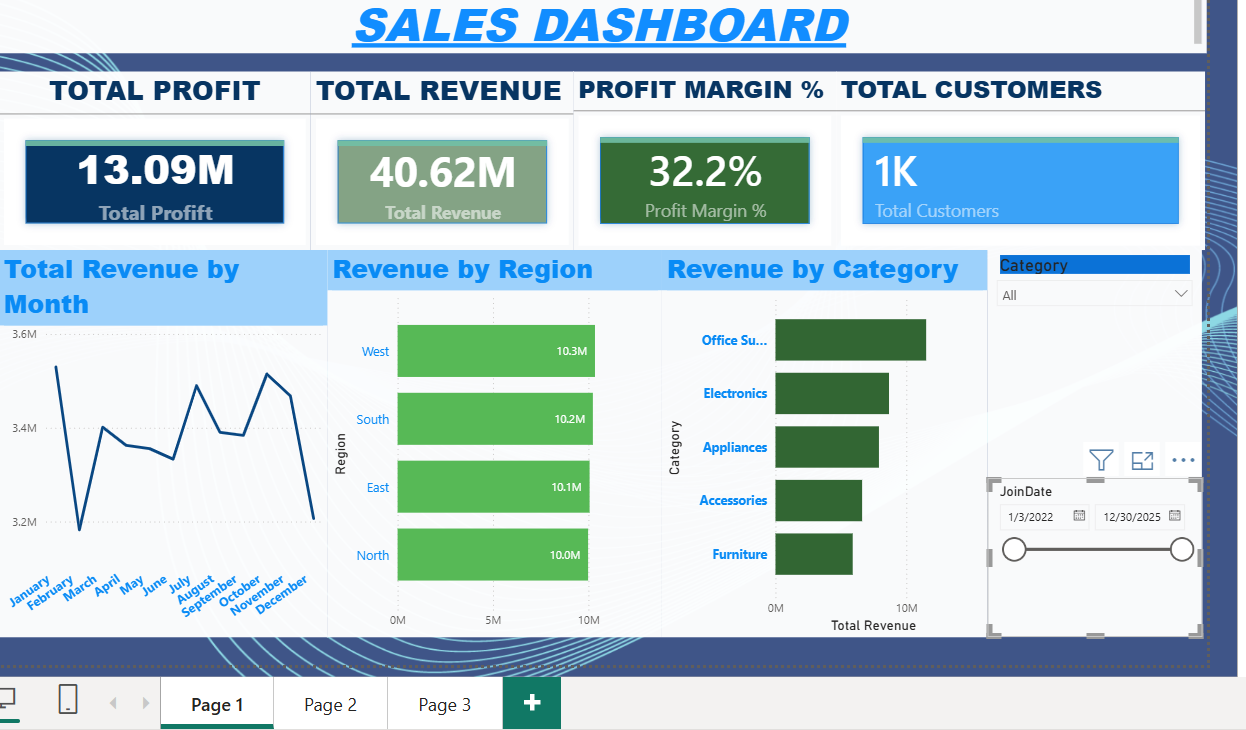

What the dashboard file says about the page in this screenshot:
{"tool":"powerbi","page":{"name":"EXECUTIVE OVERVIEW","canvas":[1280,720],"ordinal":0},"visuals":[{"type":"cardVisual","title":"TOTAL PROFIT","fields":{"Data":["Customer_Data.Total Profift"]},"box":[0,90.7,330.8,189.3],"z":0},{"type":"cardVisual","title":"TOTAL REVENUE","fields":{"Data":["Customer_Data.Total Revenue"]},"box":[330.8,90.7,278.4,189.3],"z":1000},{"type":"cardVisual","title":"PROFIT MARGIN %","fields":{"Data":["Sales_Data_20000_Rows.Profit Margin %"]},"box":[609.2,90.7,278.4,189.3],"z":2000},{"type":"cardVisual","title":"TOTAL CUSTOMERS","fields":{"Data":["Sales_Data_20000_Rows.Total Customers"]},"box":[887.6,90.7,391.3,189.3],"z":3000},{"type":"lineChart","title":"Total Revenue by Month","fields":{"Category":["Sales_Data_20000_Rows.OrderDate.Variation.Date Hierarchy.Month"],"Y":["Customer_Data.Total Revenue"]},"box":[0,279.9,348.3,410.4],"z":4000},{"type":"clusteredBarChart","title":"Revenue by Region ","fields":{"Category":["Sales_Data_20000_Rows.Region"],"Y":["Customer_Data.Total Revenue"]},"box":[348.4,279,354.8,409.7],"z":5000},{"type":"barChart","title":" Revenue by Category","fields":{"Category":["Product_Data.Category"],"Y":["Customer_Data.Total Revenue"]},"box":[703.1,279.9,345.2,410.4],"z":6000},{"type":"textbox","box":[0,0,1280.4,71.6],"z":7000},{"type":"slicer","fields":{"Values":["Product_Data.Category"]},"box":[1053.2,279,227.4,62.9],"z":8000},{"type":"slicer","fields":{"Values":["Customer_Data.JoinDate","Customer_Data.Age group"]},"box":[1052,522,228,168],"z":9000},{"type":"slicer","fields":{"Values":["Sales_Data_20000_Rows.Region"]},"box":[1048.4,359.7,227.4,62.9],"z":10000},{"type":"slicer","fields":{"Values":["Sales_Data_20000_Rows.Year"]},"box":[1052,452,228,62],"z":11000}]}

Visuals, with their boxes on the page's 1280x720 design canvas (x1, y1, x2, y2). These are canvas units, not pixel positions in the 1246x730 screenshot, which may show the page scaled, cropped or inside an application window:
"TOTAL PROFIT" cardVisual: (left=0, top=91, right=331, bottom=280)
"TOTAL REVENUE" cardVisual: (left=331, top=91, right=609, bottom=280)
"PROFIT MARGIN %" cardVisual: (left=609, top=91, right=888, bottom=280)
"TOTAL CUSTOMERS" cardVisual: (left=888, top=91, right=1279, bottom=280)
"Total Revenue by Month" lineChart: (left=0, top=280, right=348, bottom=690)
"Revenue by Region " clusteredBarChart: (left=348, top=279, right=703, bottom=689)
" Revenue by Category" barChart: (left=703, top=280, right=1048, bottom=690)
textbox: (left=0, top=0, right=1280, bottom=72)
slicer - Product_Data.Category: (left=1053, top=279, right=1281, bottom=342)
slicer - Customer_Data.JoinDate x Customer_Data.Age group: (left=1052, top=522, right=1280, bottom=690)
slicer - Sales_Data_20000_Rows.Region: (left=1048, top=360, right=1276, bottom=423)
slicer - Sales_Data_20000_Rows.Year: (left=1052, top=452, right=1280, bottom=514)
